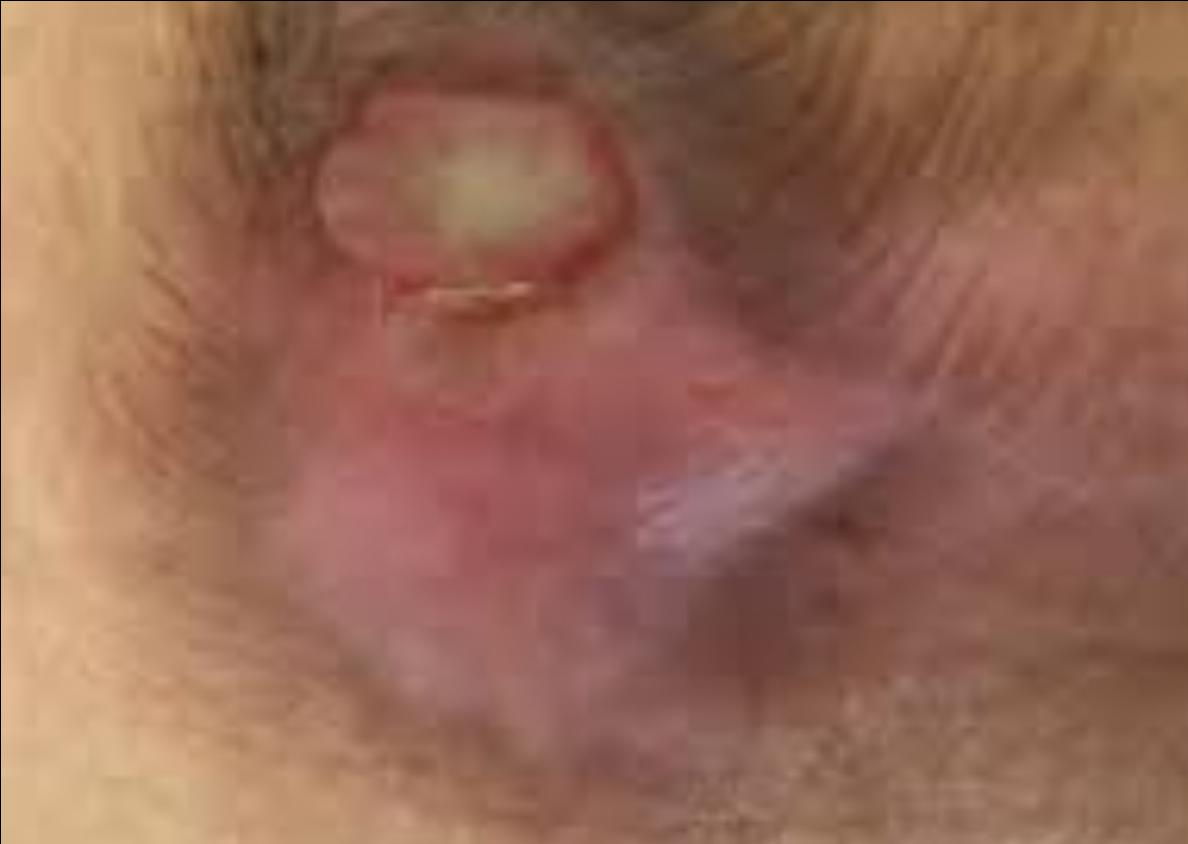Stage2: (178, 0, 706, 419)
